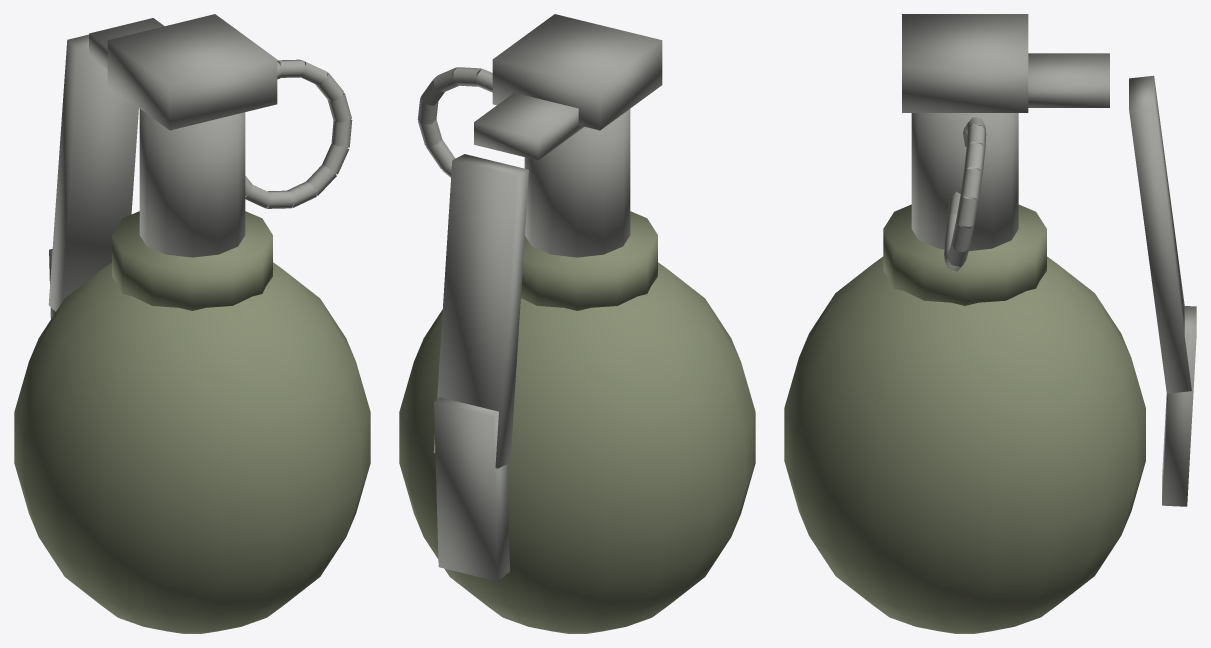
File: grenade.glb
The picture shows the model from 3 angles, left to right: view 1: azimuth 30°, elevation 25°; view 2: azimuth 150°, elevation 25°; view 3: azimuth 270°, elevation 25°; orthographic projection.
Visible parts, largest first — view 1: GrenadeBody, GrenadeFuse; view 2: GrenadeBody, GrenadeFuse; view 3: GrenadeBody, GrenadeFuse.
Boxes of the visible parts, x1,y1,x2,y2 form: GrenadeBody: (14,211,370,633); GrenadeFuse: (48,14,352,318); GrenadeBody: (399,211,755,633); GrenadeFuse: (417,14,662,581); GrenadeBody: (784,204,1145,633); GrenadeFuse: (902,14,1196,506).
Bounding box in the file's own units: 0.0576 × 0.1015 × 0.0655.
